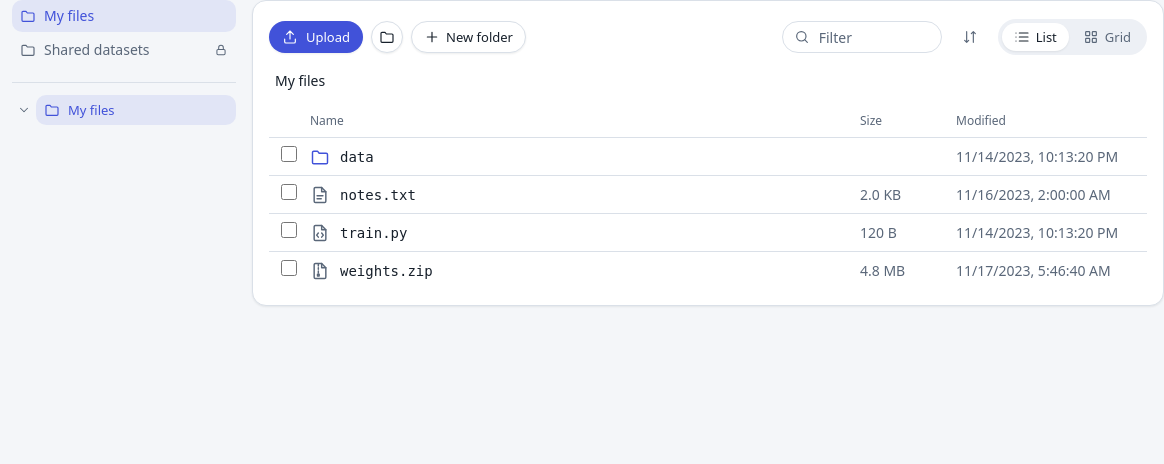
Files workspace › shows details and a preview for the selected file
Click the button "train.py" at (374, 232), box [340,222,407,242]
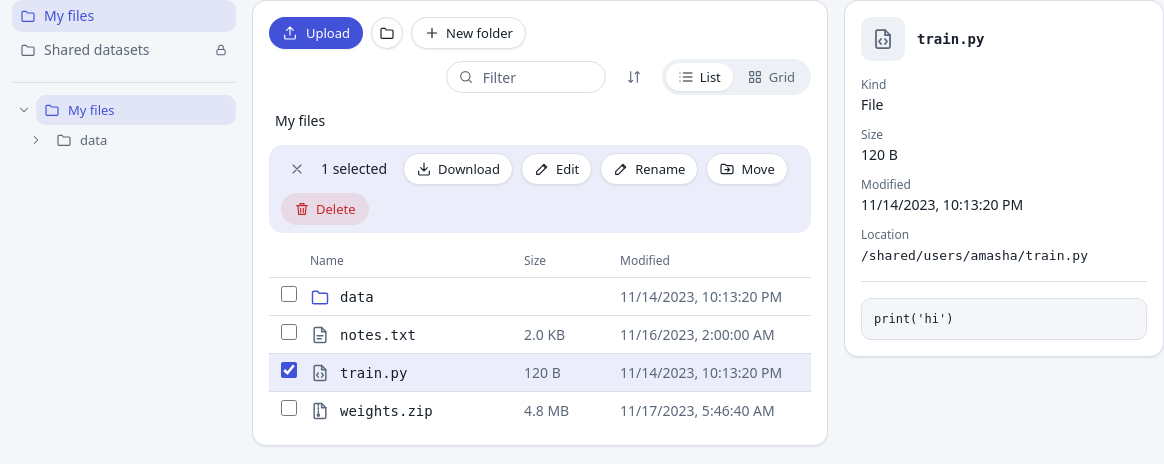
Expected: the element named "Details" shows "train.py", [917,31,984,47]
Expected: the element named "Details" shows "120 B", [861,145,898,164]
Expected: the text "print('hi')" is shown, [861,298,1147,340]
